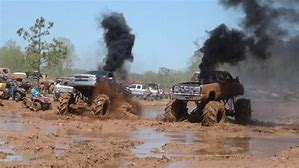smoke: (197, 1, 286, 70), (97, 9, 135, 72)
